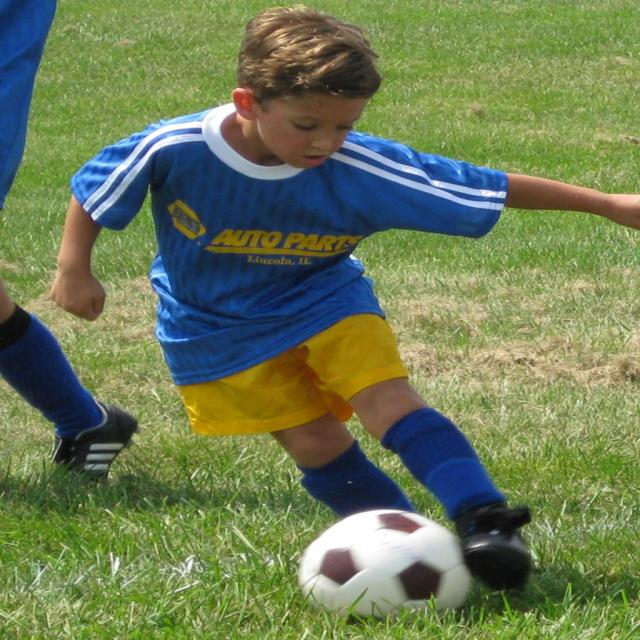Face: (253, 73, 365, 170)
